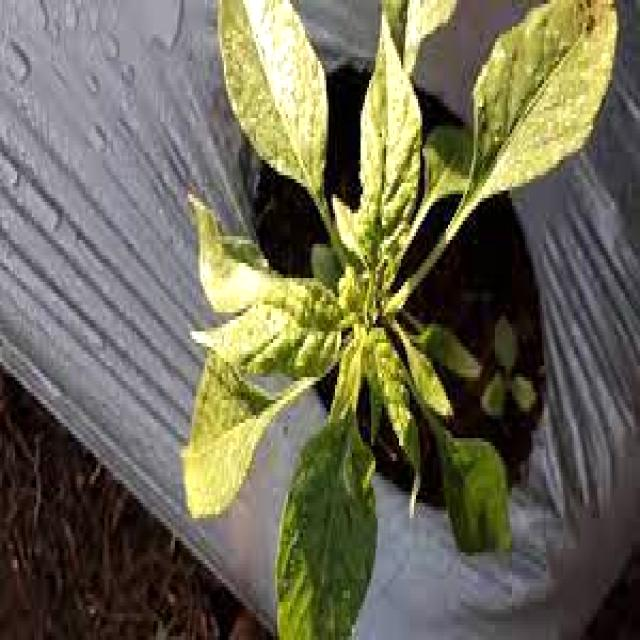yellowish leaf: (217, 1, 630, 267), (172, 193, 457, 511)
